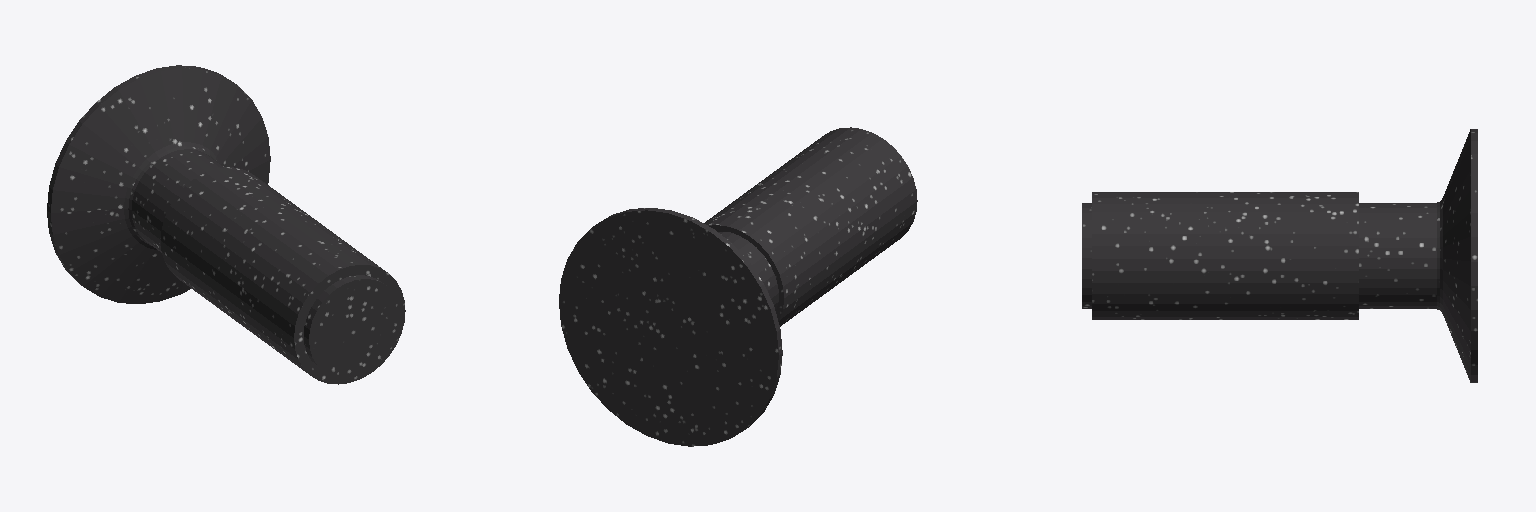
The picture shows the model from 3 angles: view 1: azimuth 30°, elevation 25°; view 2: azimuth 150°, elevation 25°; view 3: azimuth 270°, elevation 25°; orthographic projection.
Size of the model in its own units: 0.061 by 0.061 by 0.0952.
Materials: 1 (1 with a texture image).